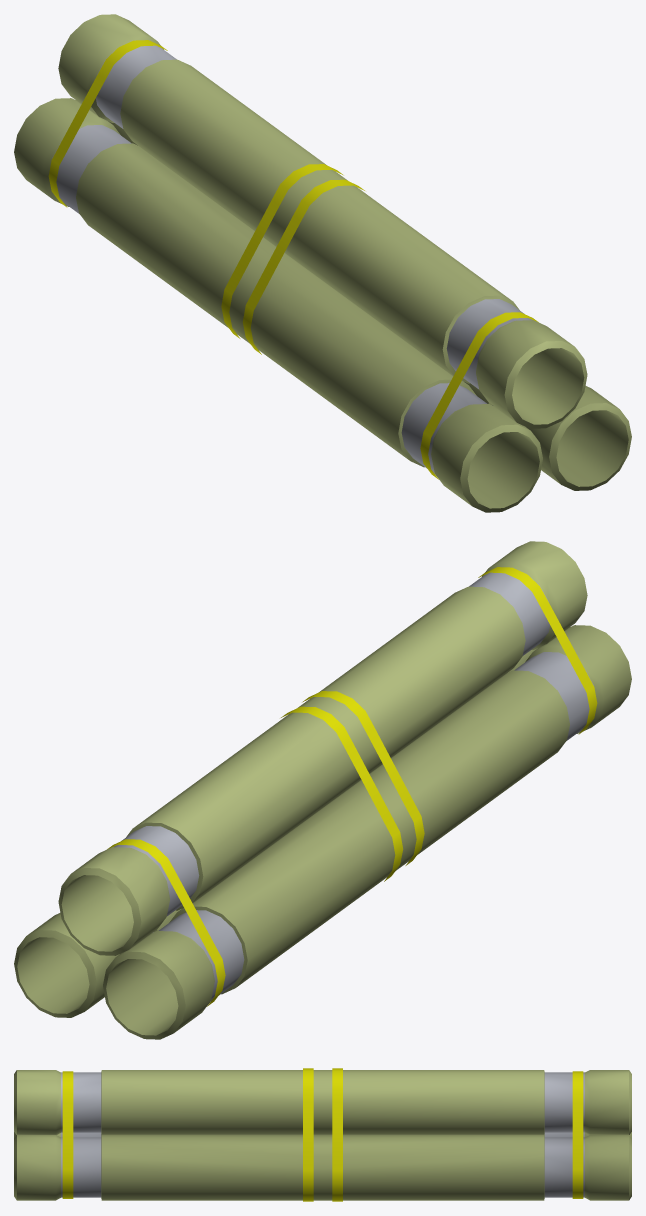
File: Pipes.glb
3 renders of one model, top to bottom at view 1: azimuth 30°, elevation 25°; view 2: azimuth 150°, elevation 25°; view 3: azimuth 270°, elevation 25°, orthographic. The views are drawn at different scales.
Visible parts, largest first — view 1: Pipes; view 2: Pipes; view 3: Pipes.
Part boxes in pixels (x1,y1,x2,y2): Pipes: (14,14,631,512); Pipes: (14,541,631,1039); Pipes: (14,1068,631,1201).
Size of the model in its own units: 0.7482 by 0.6713 by 3.36.
